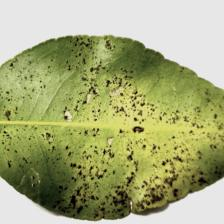canker: (84, 82, 181, 201)
